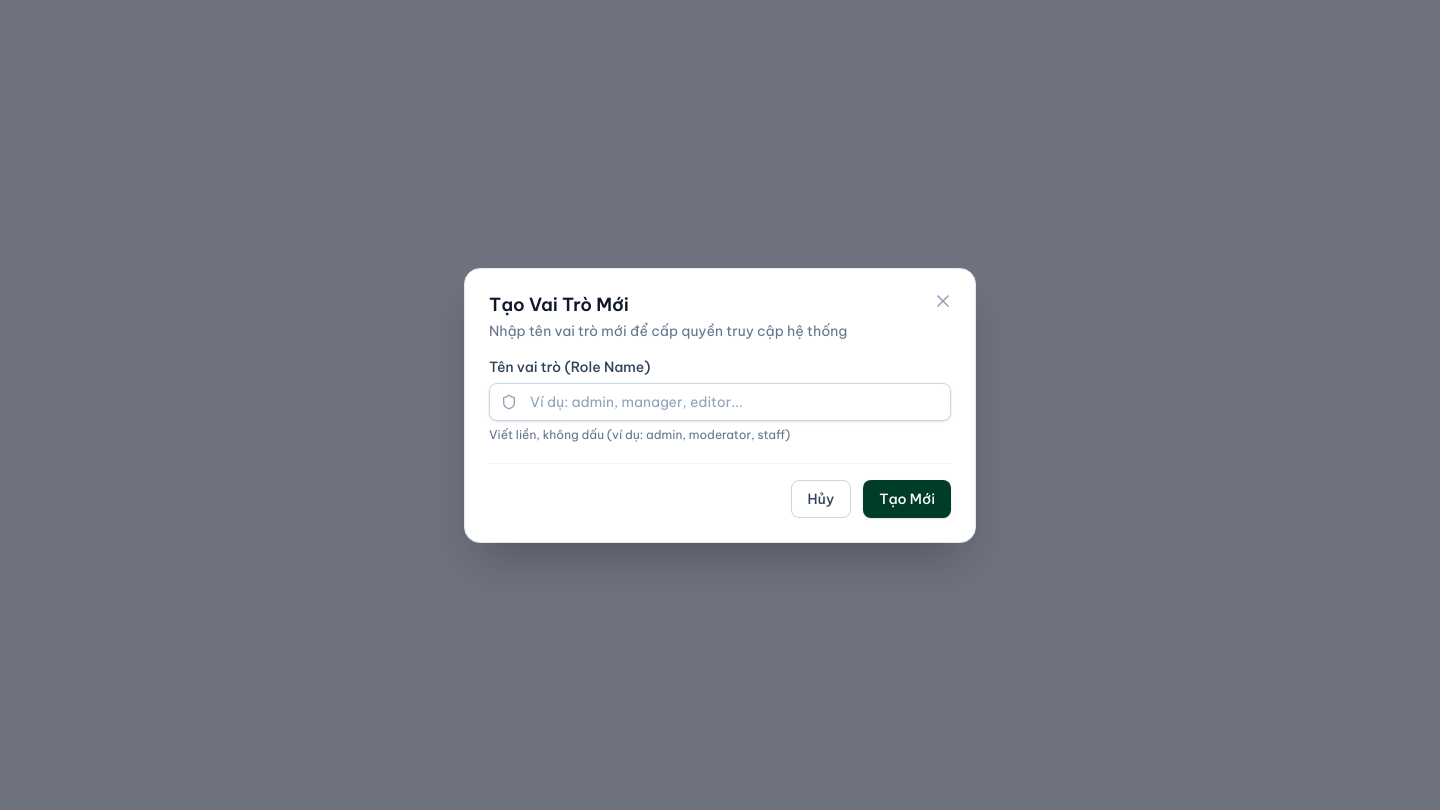
Scenario: RoleFormModal › shows a validation error when submitting an empty name
Step 1. Click the button "Tạo Mới" → coordinates (907, 498), box [863, 480, 951, 518]
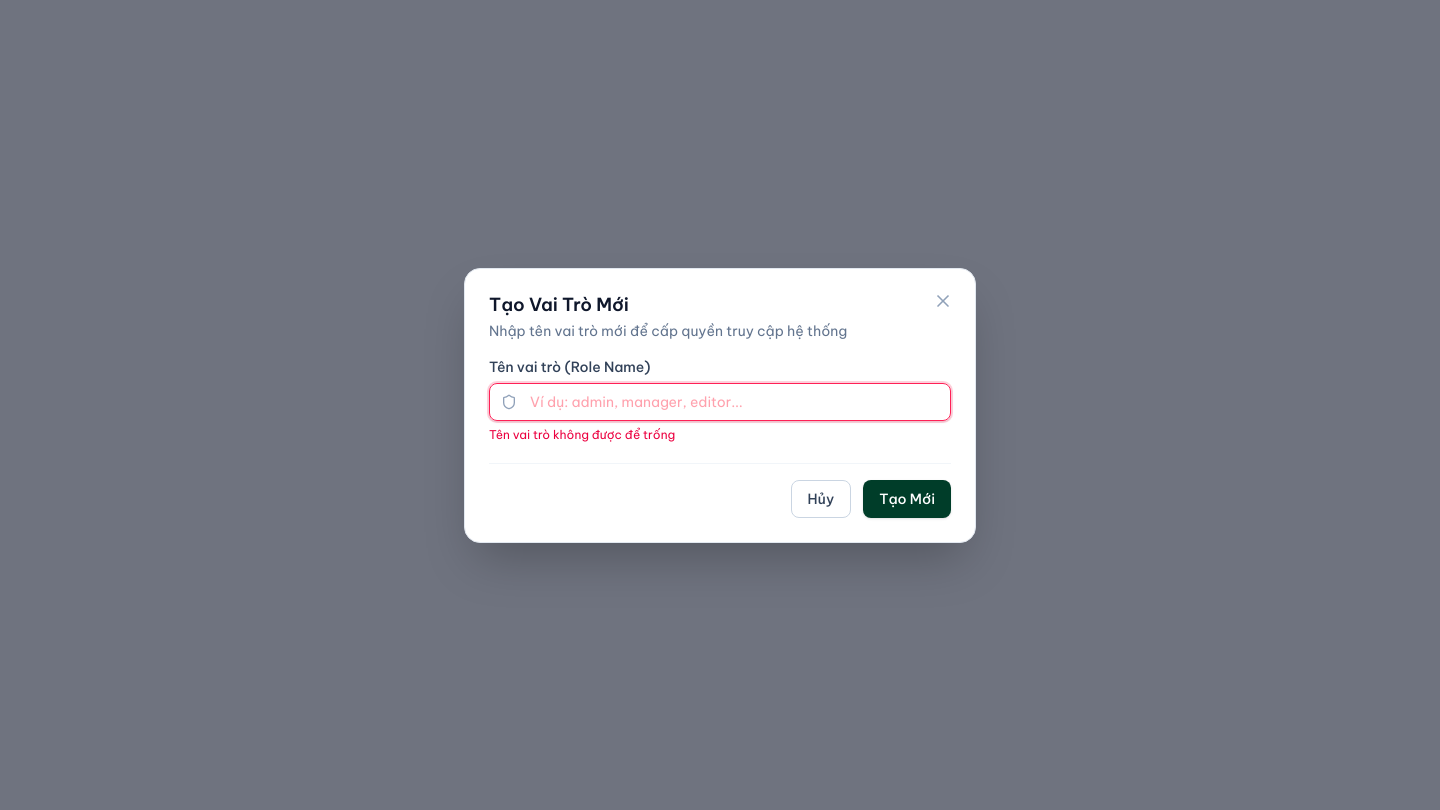
Now the text "Tên vai trò không được để trống" is shown, box [489, 426, 675, 442]
